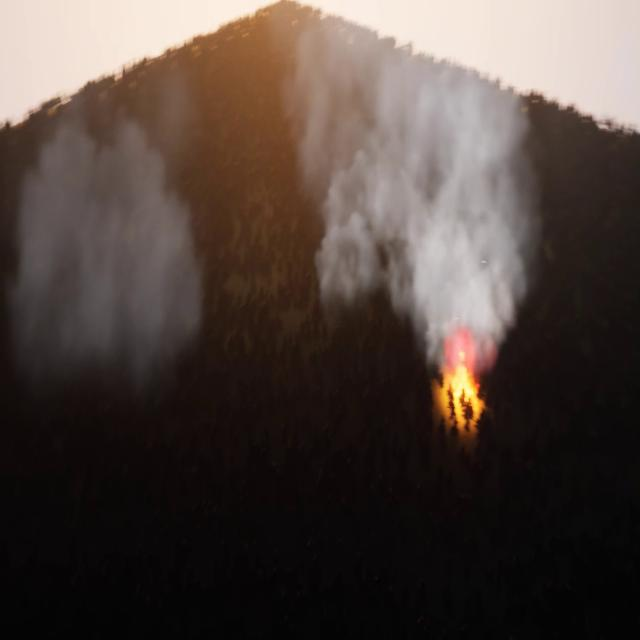fire: (442, 358, 486, 435)
smoke: (281, 10, 542, 363), (0, 116, 215, 392)
